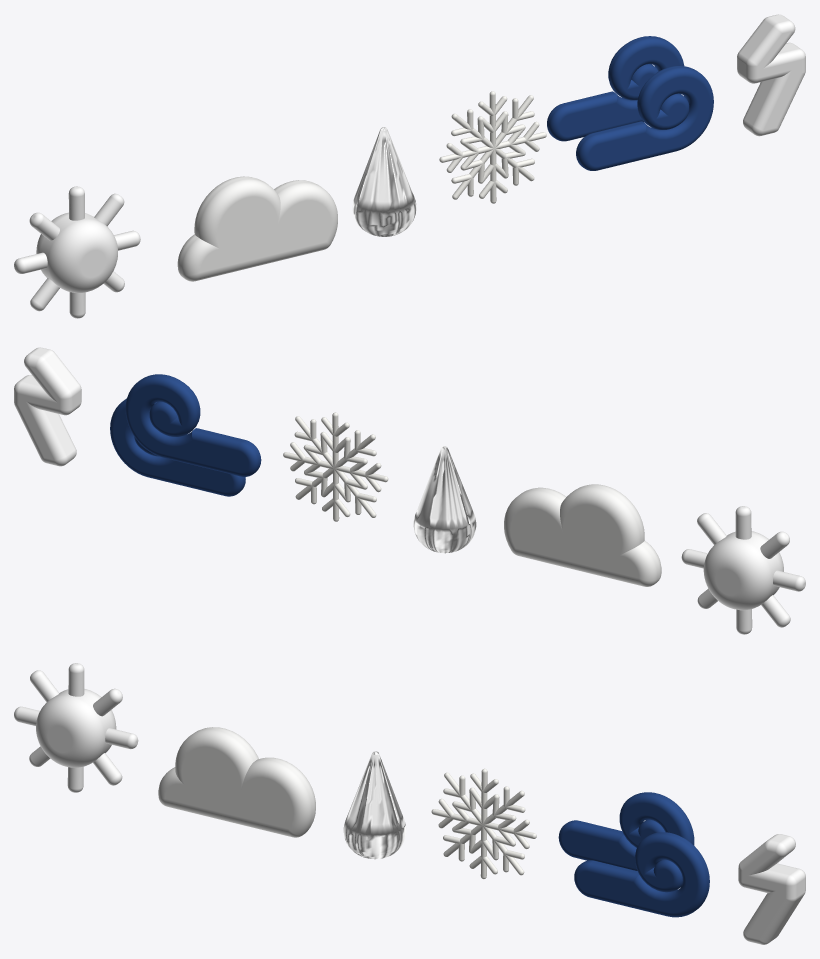
Rendered from ele2.glb.
3 renders of one model, top to bottom at view 1: azimuth 30°, elevation 25°; view 2: azimuth 150°, elevation 25°; view 3: azimuth 330°, elevation 25°, orthographic.
Visible parts, largest first — view 1: Body19, Body6, Body10, Body17, Body16, Body5; view 2: Body6, Body19, Body10, Body17, Body16, Body5; view 3: Body19, Body6, Body10, Body17, Body16, Body5.
Part boxes in pixels (x1,y1,x2,y2): Body19: [547, 36, 713, 170]; Body6: [177, 176, 337, 281]; Body10: [14, 186, 140, 318]; Body17: [439, 91, 546, 203]; Body16: [737, 14, 805, 136]; Body5: [352, 127, 416, 236]; Body6: [504, 484, 661, 586]; Body19: [110, 374, 261, 496]; Body10: [681, 506, 805, 634]; Body17: [283, 412, 388, 521]; Body16: [14, 347, 81, 466]; Body5: [413, 446, 476, 553]; Body19: [558, 792, 709, 917]; Body6: [158, 727, 315, 837]; Body10: [14, 663, 138, 792]; Body17: [431, 768, 536, 879]; Body16: [738, 834, 805, 944]; Body5: [343, 751, 406, 859].
Bounding box in the file's own units: 0.283 × 0.0441 × 0.0208.
